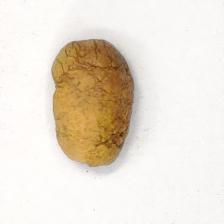NG: (52, 39, 133, 85), (93, 128, 127, 155)
